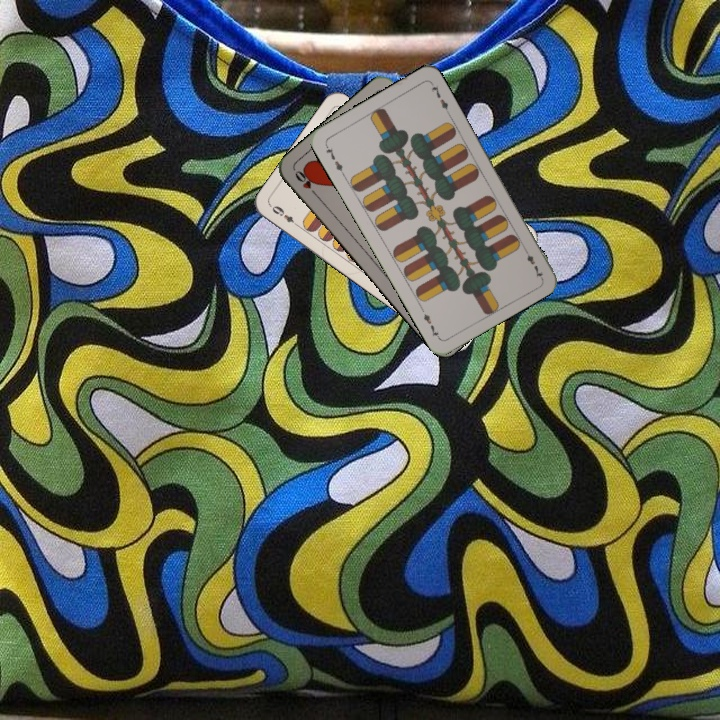E7: (321, 141, 347, 178), (520, 244, 545, 280)
E9: (267, 201, 302, 229)
HO: (291, 166, 321, 200)
